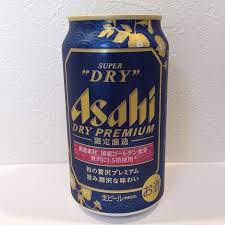beer: (59, 14, 171, 219)
